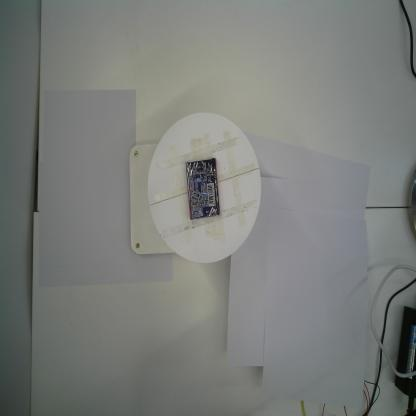Gum: (184, 158, 221, 221)
